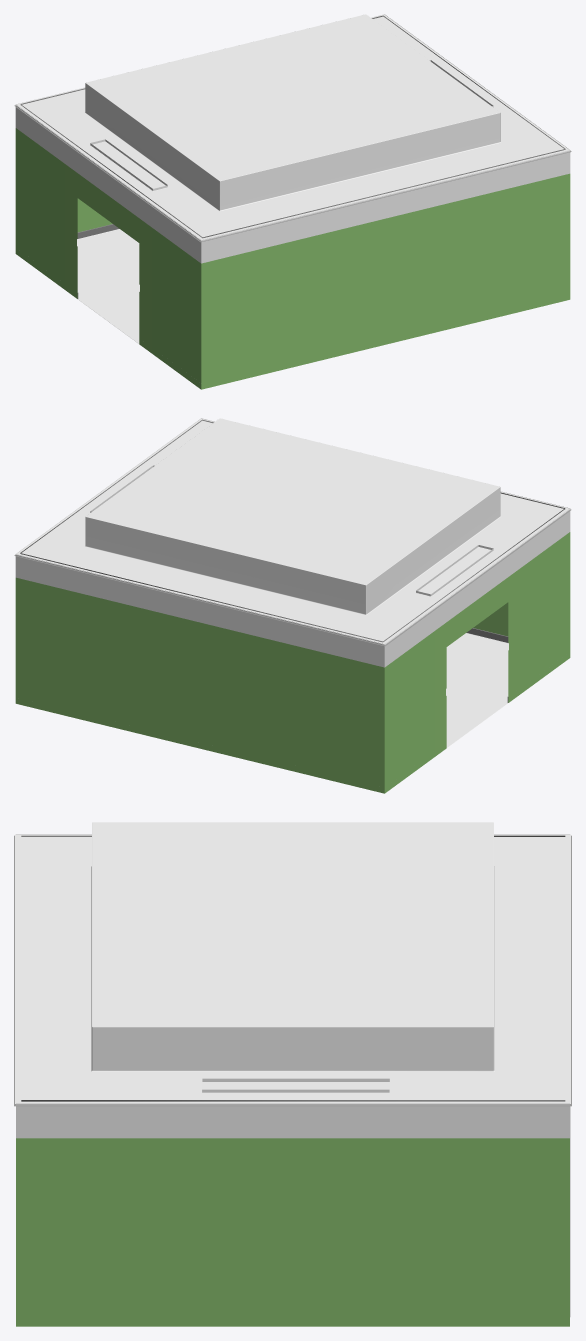
The picture shows the model from 3 angles, top to bottom: view 1: azimuth 30°, elevation 25°; view 2: azimuth 150°, elevation 25°; view 3: azimuth 270°, elevation 25°; orthographic projection. The views are drawn at different scales.
Visible parts, largest first — view 1: SM_H_Building_FutureTech_HBlue_01_InterWall_07; view 2: SM_H_Building_FutureTech_HBlue_01_InterWall_07; view 3: SM_H_Building_FutureTech_HBlue_01_InterWall_07.
Boxes of the visible parts, left/top/right/bottom form: SM_H_Building_FutureTech_HBlue_01_InterWall_07: left=14, top=14, right=571, bottom=389; SM_H_Building_FutureTech_HBlue_01_InterWall_07: left=14, top=418, right=571, bottom=793; SM_H_Building_FutureTech_HBlue_01_InterWall_07: left=14, top=822, right=571, bottom=1326.
Bounding box in the file's own units: 313 × 359 × 166.
